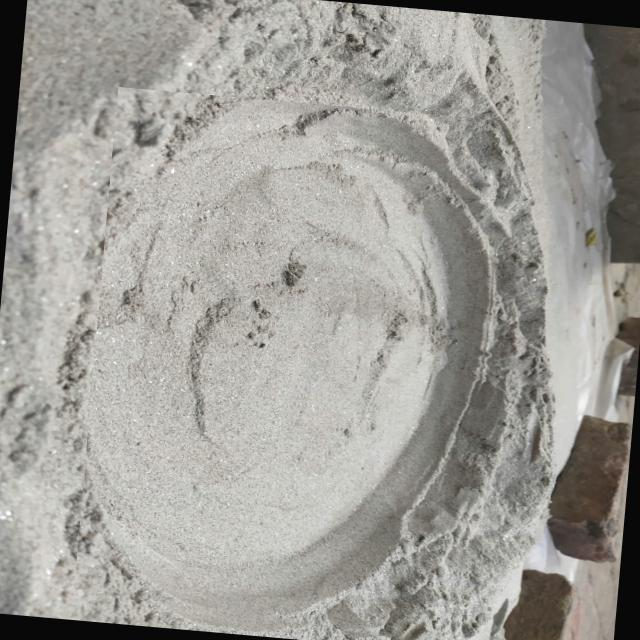C40: (87, 98, 492, 617)
